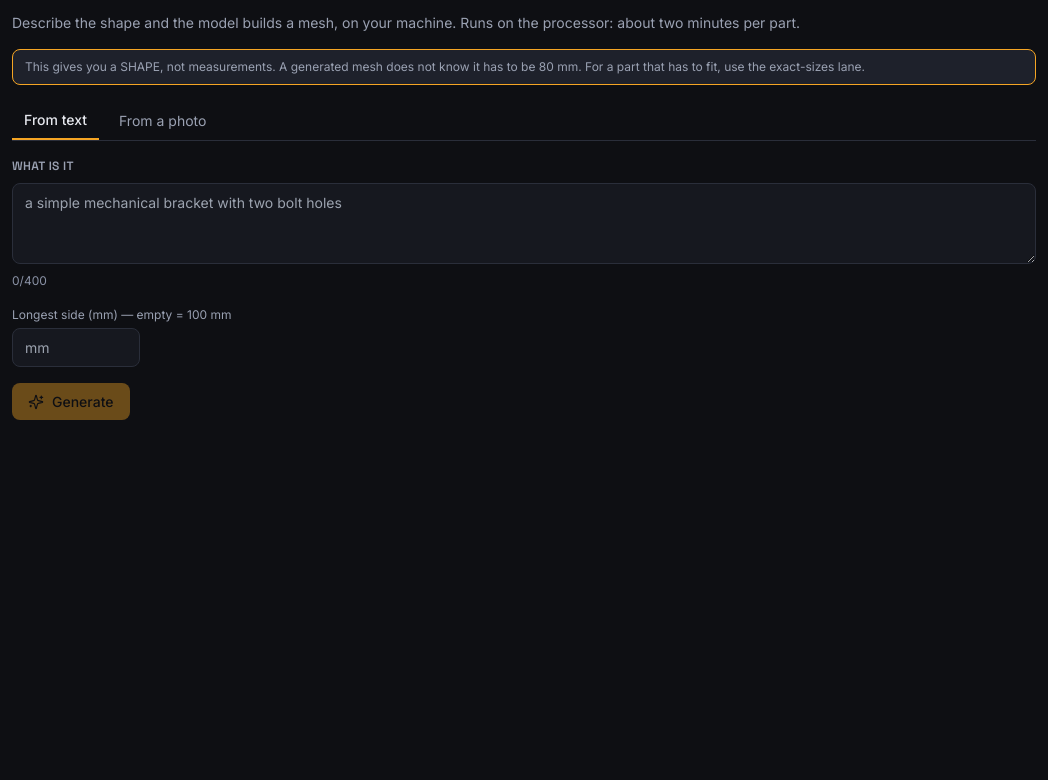
Test: MeshGenerator › says plainly when what it generated does not print
In the text box: (524, 224) [12,183,1036,264], type "algo"
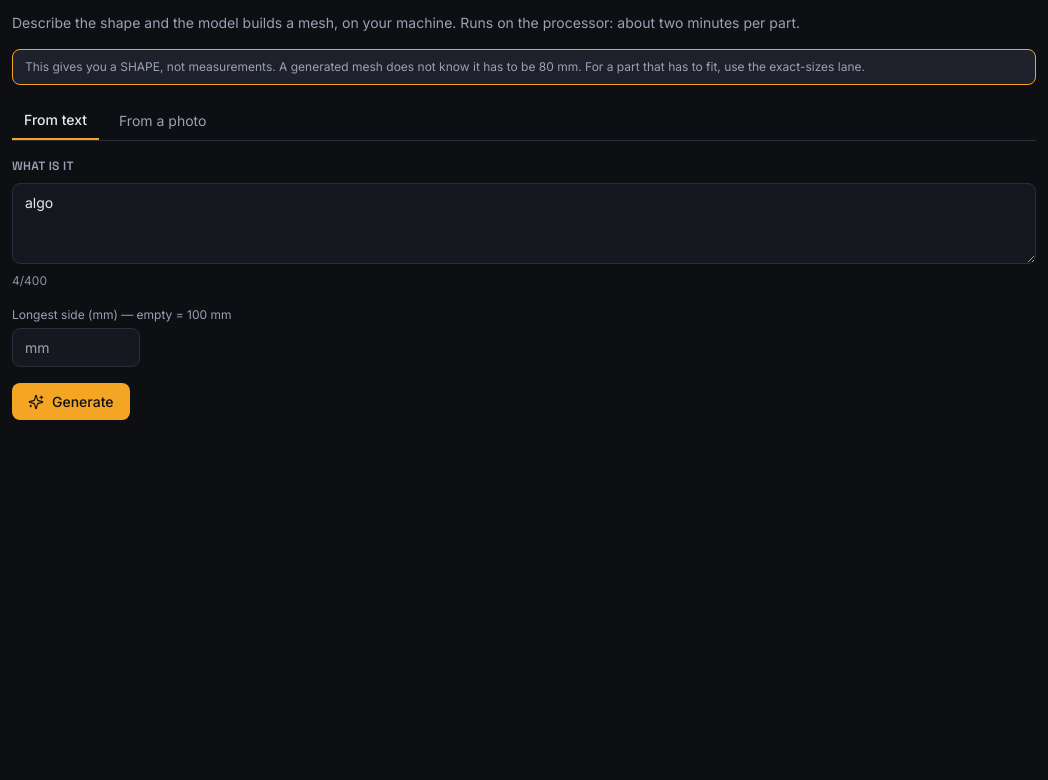
Click the button "Generate": (71, 402) [12,383,130,420]
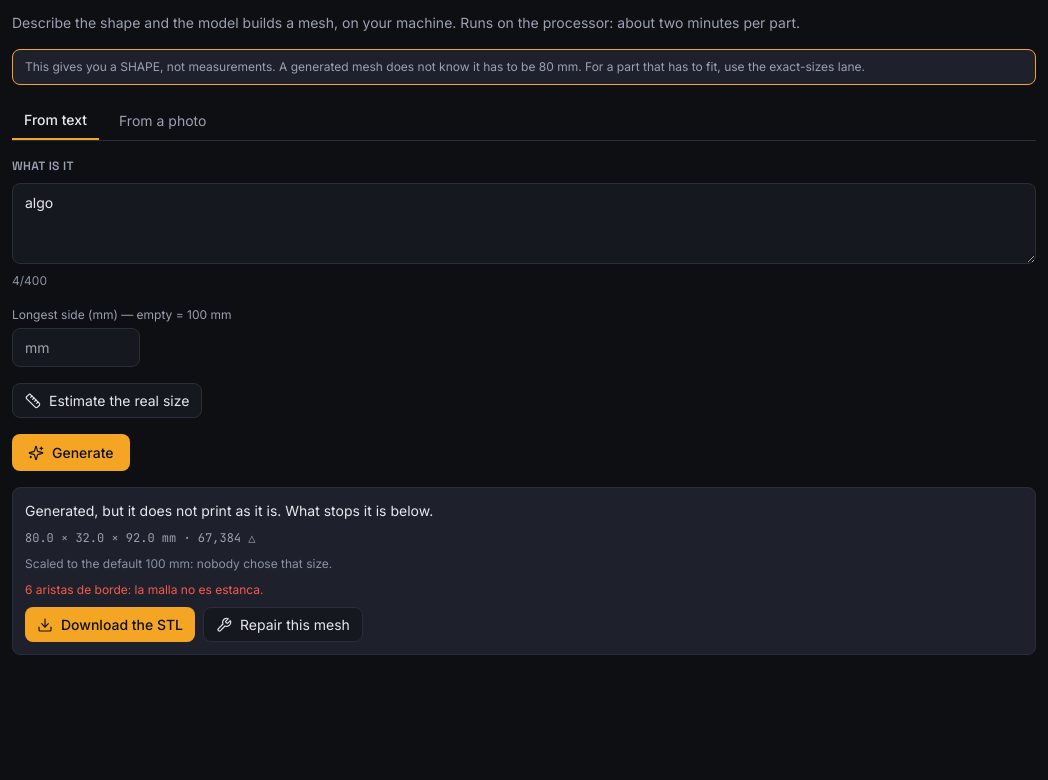
Result: the text "Generated, but it does not print as it is. What stops it is below." is shown at [25,502,433,519]
Result: the text "6 aristas de borde: la malla no es estanca." is shown at [25,582,264,597]
